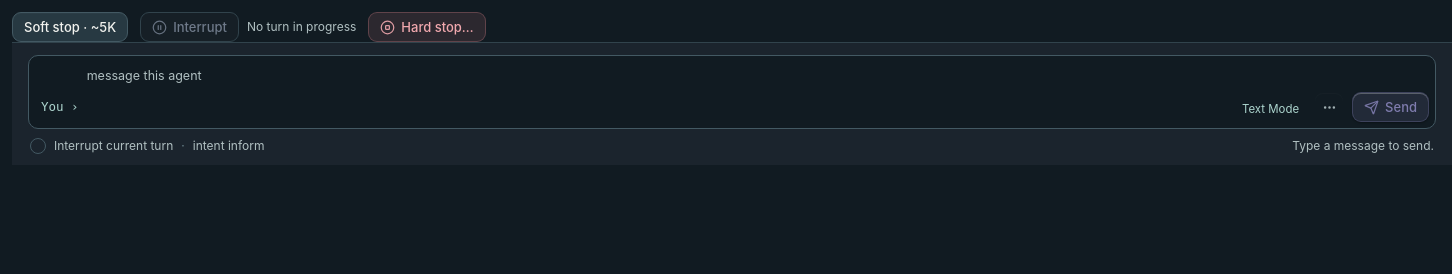
Test case: Agent controls › moves focus to Cancel on open, back to Stop on Escape
The image size is (1452, 274).
Step 1. Click the button "Hard stop…" → (427, 27), box [368,12,486,42]
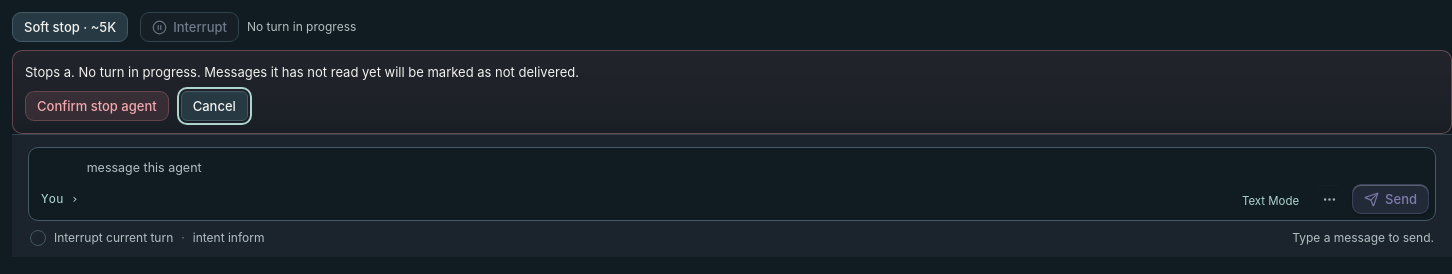
Step 2. Press Escape
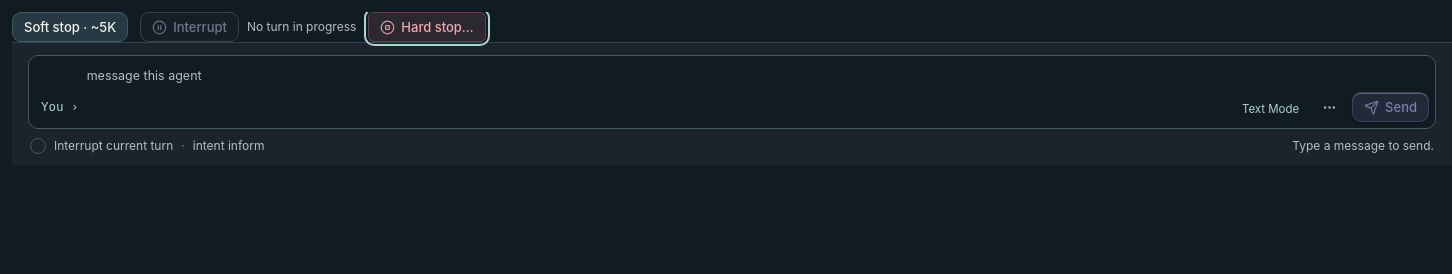
Check: the button "Confirm stop agent" is gone
